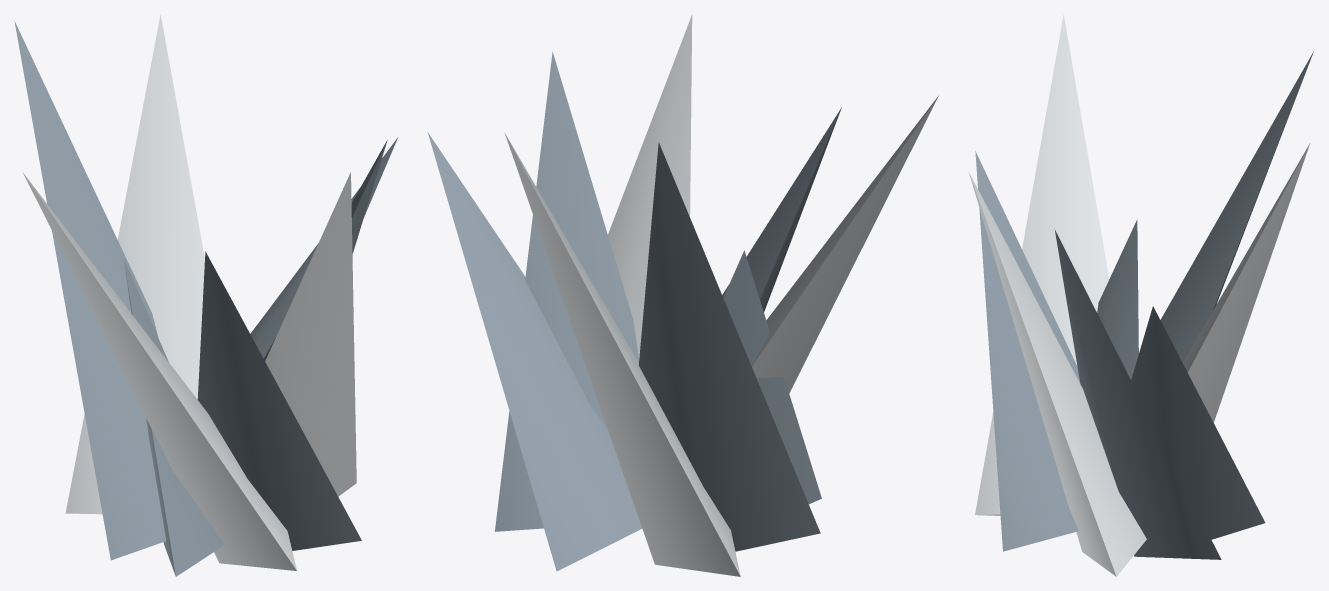
File: FrostTuft.fbx
3 views of the same model, side by side, from view 1: azimuth 30°, elevation 25°; view 2: azimuth 150°, elevation 25°; view 3: azimuth 270°, elevation 25° (orthographic). The views are drawn at different scales.
Parts seen in each view (by area): view 1: FrostTuft; view 2: FrostTuft; view 3: FrostTuft.
Part boxes in pixels (bbox=[...]): FrostTuft: bbox=[14, 15, 398, 576]; FrostTuft: bbox=[427, 14, 938, 576]; FrostTuft: bbox=[968, 15, 1313, 576].
Size of the model in its own units: 0.474 by 0.4959 by 0.3559.
